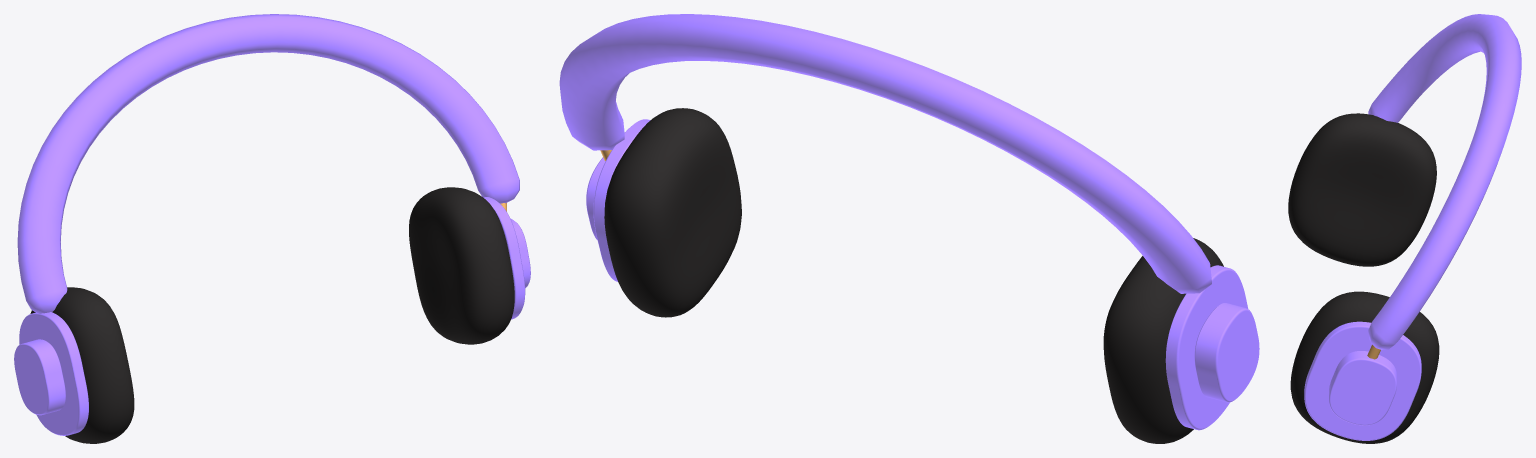
Rendered from Headphones.glb.
3 renders of one model, left to right at view 1: azimuth 30°, elevation 25°; view 2: azimuth 150°, elevation 25°; view 3: azimuth 270°, elevation 25°, orthographic. The views are drawn at different scales.
Visible parts, largest first — view 1: Torus, Cube (×2), Rectangle 2 (×2), Rectangle 3 (×2); view 2: Torus, Cube (×2), Rectangle 2 (×2), Rectangle 3; view 3: Cube (×2), Torus, Rectangle 2, Rectangle 3.
Part boxes in pixels (x1=…): Torus: x1=17, y1=14, x2=519, y2=313; Cube (×2): x1=30, y1=187, x2=514, y2=443; Rectangle 2 (×2): x1=19, y1=197, x2=525, y2=435; Rectangle 3 (×2): x1=14, y1=219, x2=530, y2=415; Torus: x1=559, y1=14, x2=1211, y2=293; Cube (×2): x1=604, y1=108, x2=1223, y2=443; Rectangle 2 (×2): x1=593, y1=119, x2=1248, y2=430; Rectangle 3: x1=1194, y1=303, x2=1259, y2=402; Cube (×2): x1=1288, y1=113, x2=1439, y2=443; Torus: x1=1368, y1=14, x2=1521, y2=349; Rectangle 2: x1=1304, y1=321, x2=1421, y2=440; Rectangle 3: x1=1329, y1=351, x2=1396, y2=425.
Size of the model in its own units: 1.3 by 0.7737 by 0.528.
